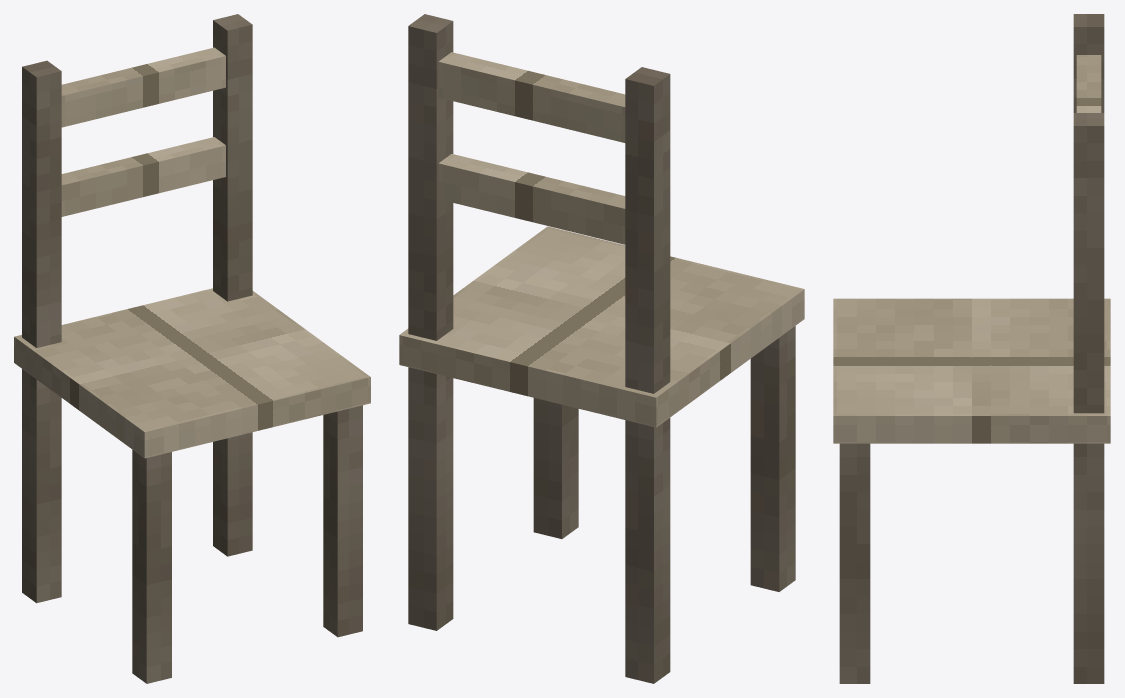
The model's file is chair_wood.glb.
3 views of the same model, side by side, from view 1: azimuth 30°, elevation 25°; view 2: azimuth 150°, elevation 25°; view 3: azimuth 270°, elevation 25° (orthographic). The views are drawn at different scales.
Parts seen in each view (by area): view 1: body; view 2: body; view 3: body.
Part boxes in pixels (x1,y1,x2,y2): body: (14, 14, 370, 683); body: (399, 14, 804, 683); body: (833, 14, 1110, 683).
Size of the model in its own units: 0.45 by 1 by 0.45.
Materials: 2 (2 with a texture image).
